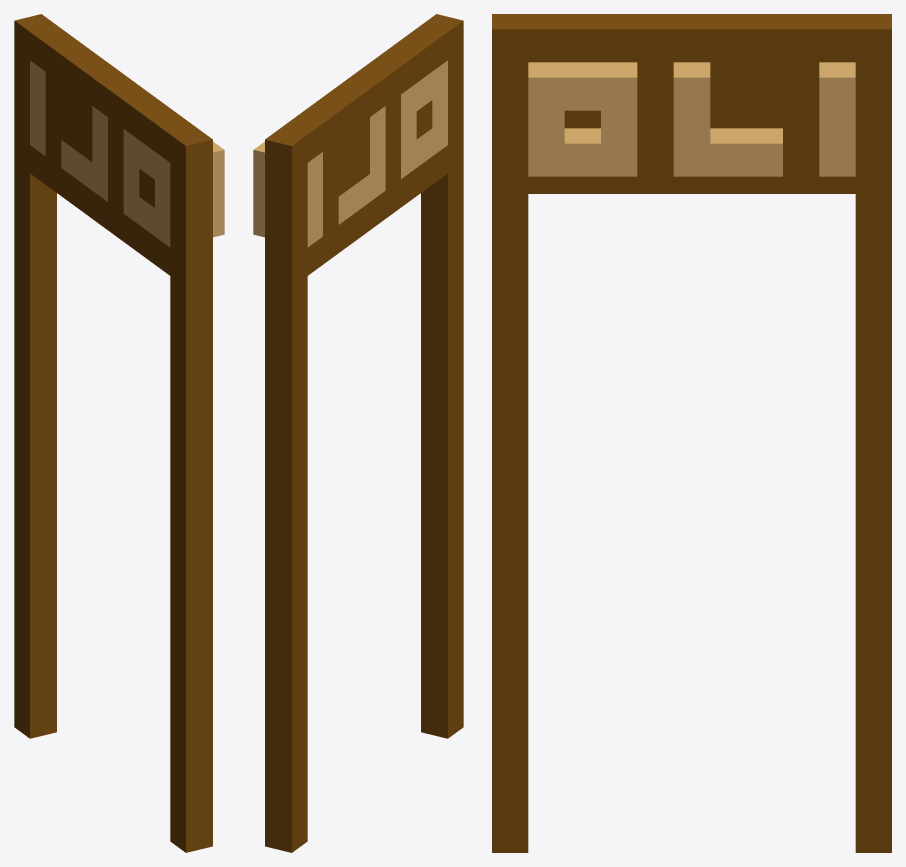
The model's file is farm-4-letrero.obj.
3 renders of one model, left to right at view 1: azimuth 30°, elevation 25°; view 2: azimuth 150°, elevation 25°; view 3: azimuth 270°, elevation 25°, orthographic. The views are drawn at different scales.
Parts seen in each view (by area): view 1: letrero; view 2: letrero; view 3: letrero.
Boxes of the visible parts, box(x1,y1,x2,y2) form: letrero: box(14, 14, 224, 852); letrero: box(253, 14, 463, 852); letrero: box(492, 14, 891, 852).
Bounding box in the file's own units: 0.2 × 2.5 × 1.1.
1 material, 1 textured.
